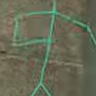hacks_2: (13, 1, 96, 96)
